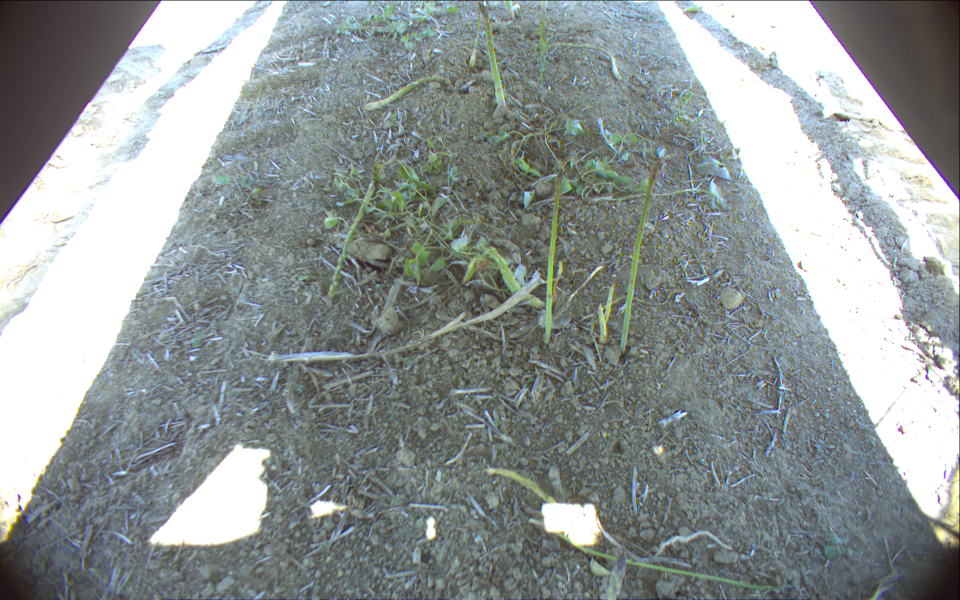aspa: (615, 156, 664, 354), (542, 165, 567, 347), (475, 2, 510, 116)
